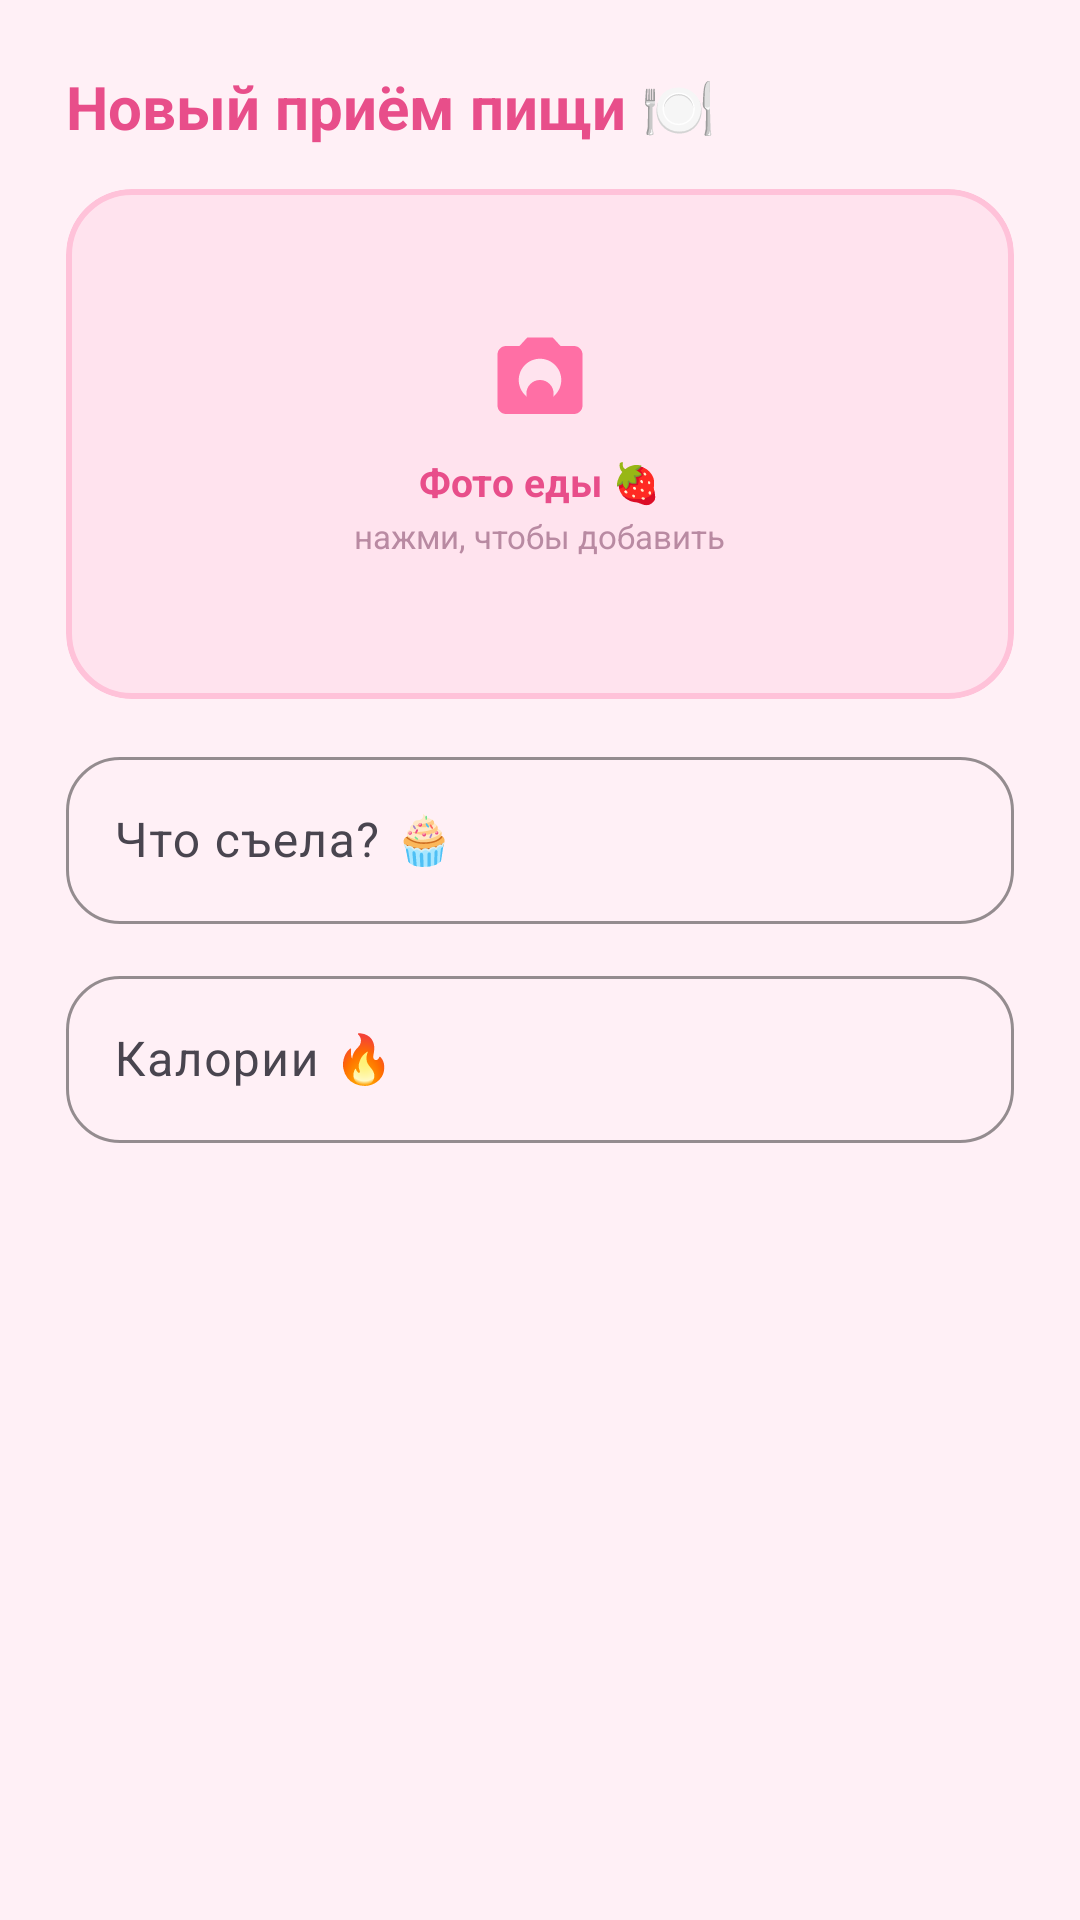

Where to tap for icons on this 1080*1920 app screen, as (x,y):
Добавить фото: (540,375)
